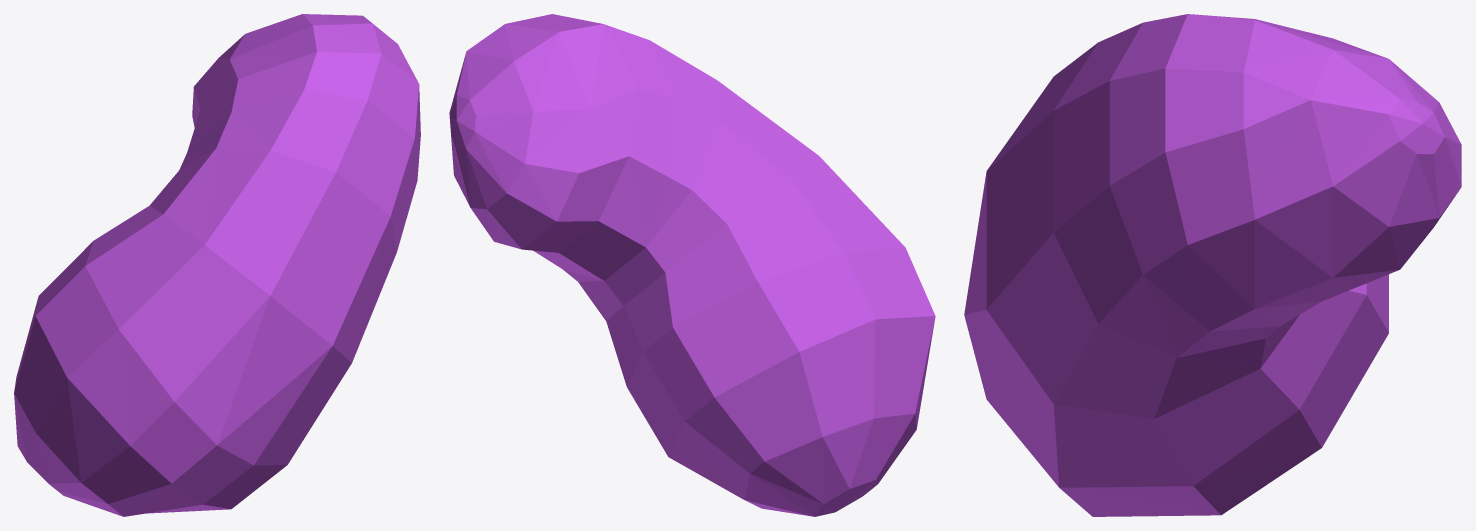
Rendered from leftArmPik.FBX.
3 renders of one model, left to right at view 1: azimuth 30°, elevation 25°; view 2: azimuth 150°, elevation 25°; view 3: azimuth 270°, elevation 25°, orthographic. The views are drawn at different scales.
Parts seen in each view (by area): view 1: VIFS001; view 2: VIFS001; view 3: VIFS001.
Boxes of the visible parts, x1=… form: VIFS001: x1=14, y1=14, x2=420, y2=516; VIFS001: x1=449, y1=14, x2=935, y2=516; VIFS001: x1=964, y1=14, x2=1461, y2=516.
Size of the model in its own units: 0.5947 by 0.5947 by 0.445.
